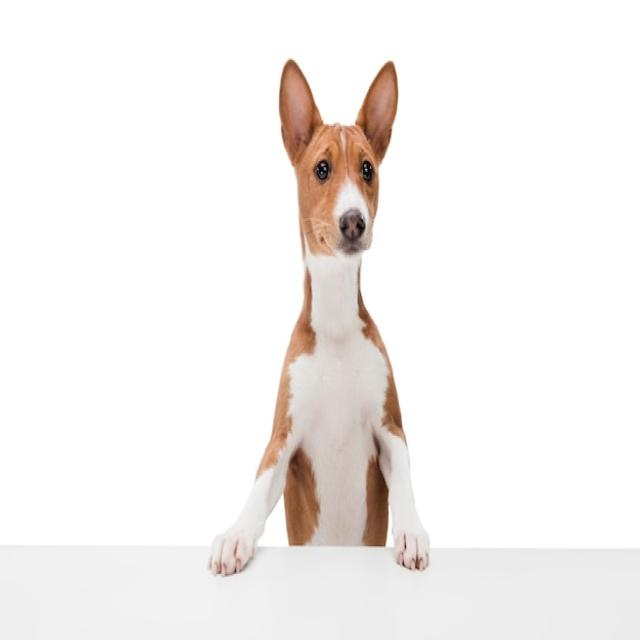Dog: (208, 59, 432, 576)
